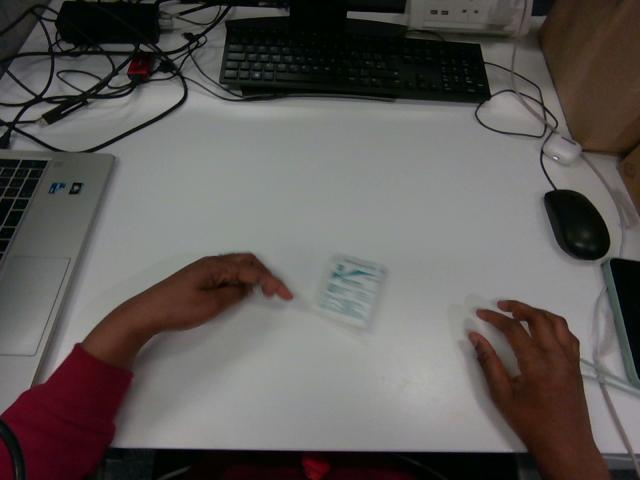gauze: (312, 255, 385, 328)
